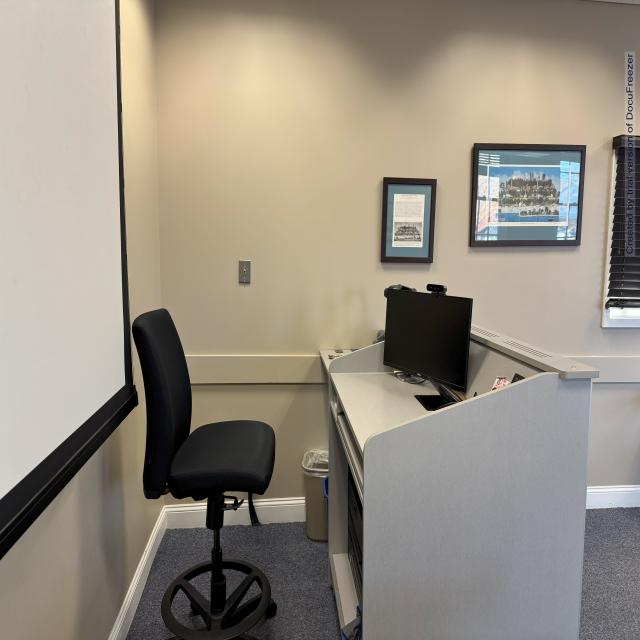Table: (333, 354, 591, 640)
chair: (131, 306, 287, 640)
